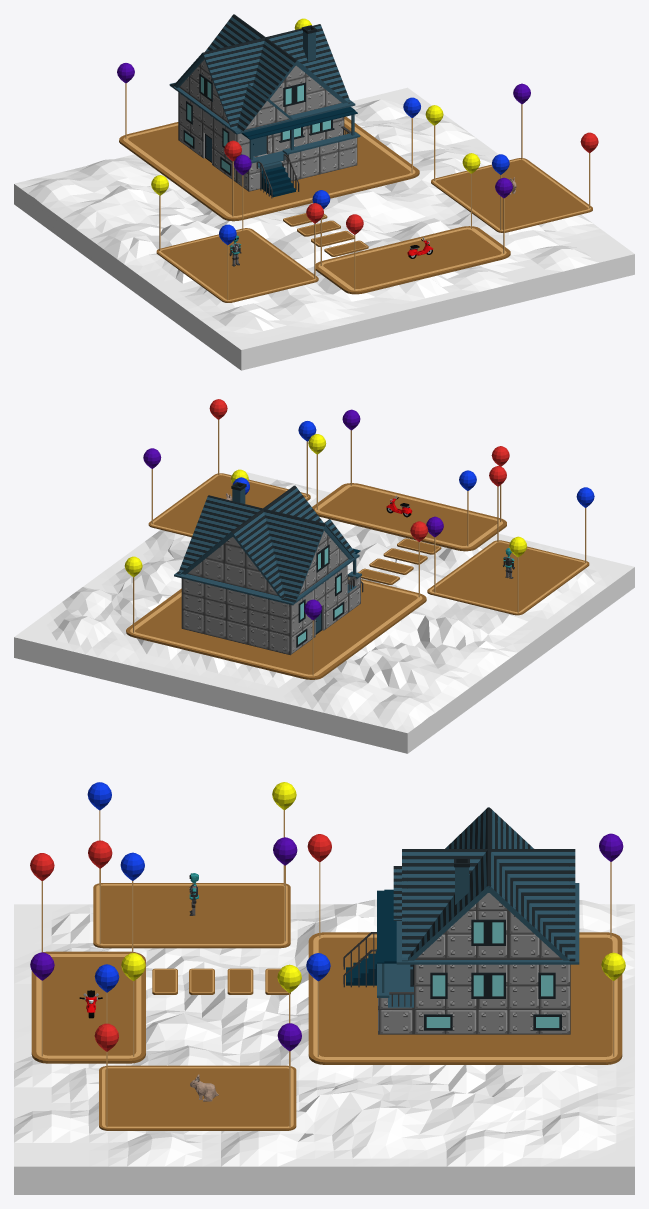
3 views of the same model, one above another, from view 1: azimuth 30°, elevation 25°; view 2: azimuth 150°, elevation 25°; view 3: azimuth 270°, elevation 25° (orthographic). The views are drawn at different scales.
Visible parts, largest first — view 1: Cube.013, Cube.078; view 2: Cube.013, Cube.078; view 3: Cube.013, Cube.078.
Boxes of the visible parts, x1=… form: Cube.013: x1=14, y1=18, x2=634, y2=370; Cube.078: x1=169, y1=14, x2=360, y2=198; Cube.013: x1=14, y1=399, x2=634, y2=753; Cube.078: x1=174, y1=482, x2=363, y2=655; Cube.013: x1=14, y1=782, x2=634, y2=1194; Cube.078: x1=343, y1=807, x2=579, y2=1034.
Bounding box in the file's own units: 4000 × 1840 × 4000.
36 materials, 3 textured.
